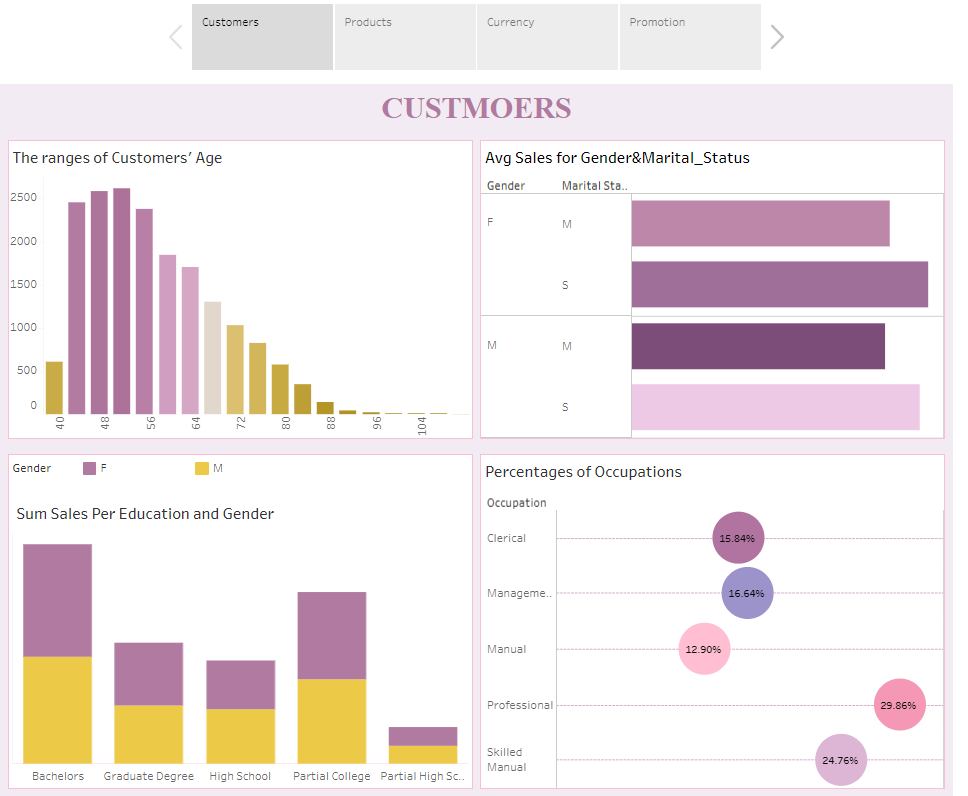

The dashboard page shown, as its layout file describes it:
{"tool":"tableau","page":{"name":"Dashboard 1","canvas":[1000,800],"ordinal":0},"visuals":[{"type":"text","box":[4,4,992,72]},{"type":"worksheet","title":"Sheet 1","mark":"Automatic","rows":["EnglishProductCategoryName","EnglishProductSubcategoryName"],"cols":["SalesAmount"],"box":[8,80,492,341]},{"type":"worksheet","title":"Sheet 2","mark":"Pie","rows":["OrderDate"],"cols":["Calculation_1508142970732838913","Calculation_1508142970732838913"],"box":[500,80,492,341]},{"type":"worksheet","title":"Sheet 3","mark":"Circle","box":[8,429,492,363]},{"type":"legend","title":"Sheet 4","param":"[federated.0r8zh2e1pzmrfg129jxzw04584lt].[:Measure Names]","box":[505,434,482,50]},{"type":"worksheet","title":"Sheet 4","mark":"Automatic","rows":["SalesOrderNumber","SalesOrderNumber"],"cols":["OrderDate"],"box":[505,484,482,303]}]}

Visuals, with their boxes on the page's 1000x800 design canvas (x1, y1, x2, y2). These are canvas units, not pixel positions in the 968x796 screenshot, which may show the page scaled, cropped or inside an application window:
text: select_region(4, 4, 996, 76)
"Sheet 1" worksheet: select_region(8, 80, 500, 421)
"Sheet 2" worksheet (Pie marks): select_region(500, 80, 992, 421)
"Sheet 3" worksheet (Circle marks): select_region(8, 429, 500, 792)
"Sheet 4" legend: select_region(505, 434, 987, 484)
"Sheet 4" worksheet: select_region(505, 484, 987, 787)
